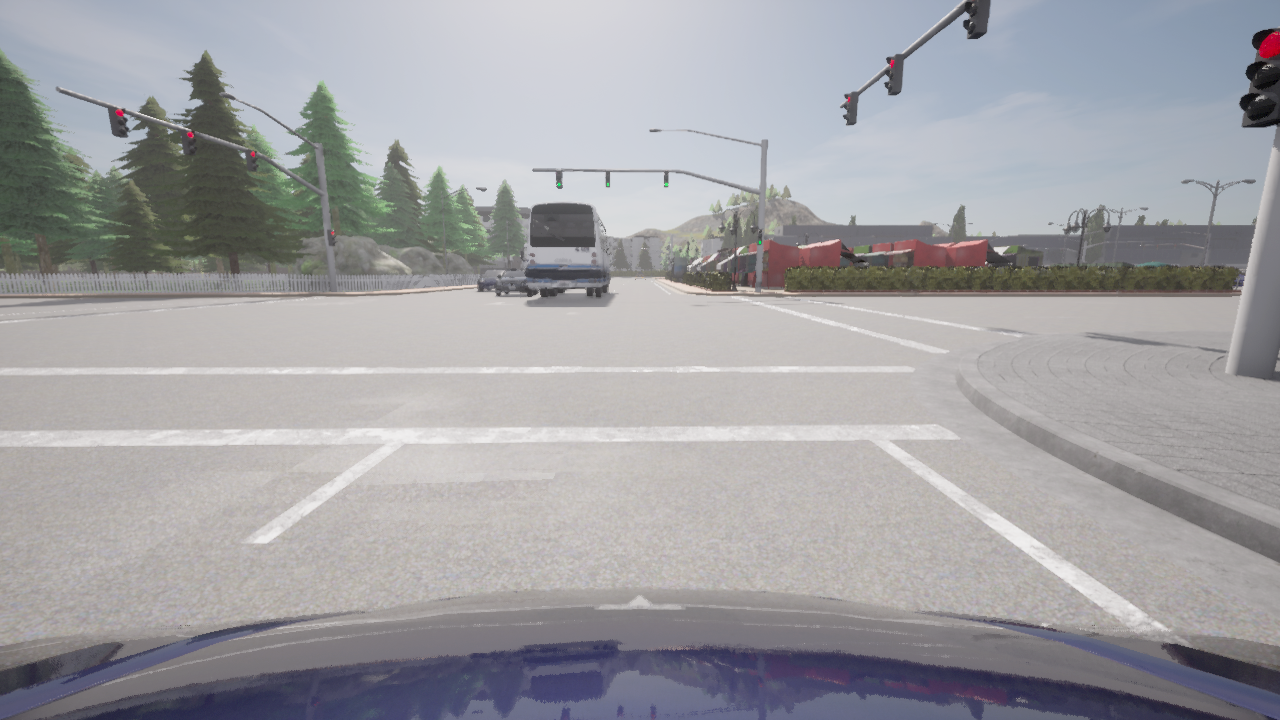cyclist: (0, 588, 1279, 719), (528, 201, 613, 297), (493, 269, 537, 296), (477, 269, 505, 290), (520, 243, 527, 269), (1233, 271, 1245, 285), (634, 271, 645, 281), (1204, 265, 1225, 266), (1239, 269, 1245, 272)
